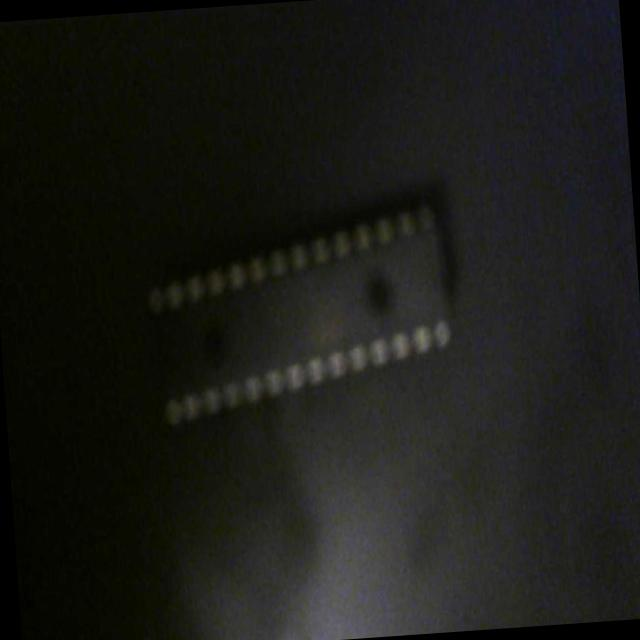atmega: (137, 173, 470, 434)
